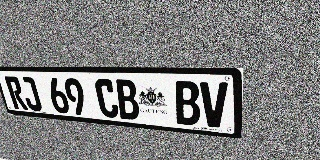6: (46, 77, 71, 114)
9: (63, 78, 88, 116)
B: (173, 81, 201, 126), (114, 79, 141, 120)
C: (94, 79, 120, 118)
J: (18, 77, 43, 111)
R: (4, 76, 28, 110)
V: (200, 82, 228, 128)
